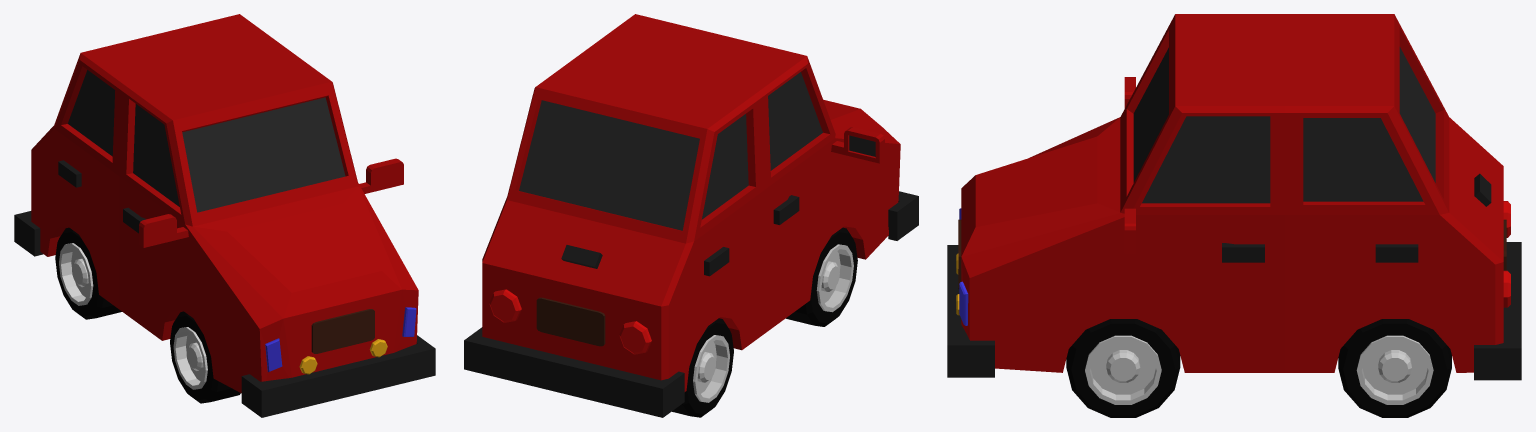
Rendered from RedCar.obj.
3 views of the same model, side by side, from view 1: azimuth 30°, elevation 25°; view 2: azimuth 150°, elevation 25°; view 3: azimuth 270°, elevation 25° (orthographic). The views are drawn at different scales.
Parts seen in each view (by area): view 1: red_car; view 2: red_car; view 3: red_car.
Part boxes in pixels (x1=…): red_car: x1=14, y1=14, x2=435, y2=417; red_car: x1=464, y1=14, x2=918, y2=417; red_car: x1=947, y1=14, x2=1521, y2=417.
Bounding box in the file's own units: 3.32 × 3.21 × 5.34.
